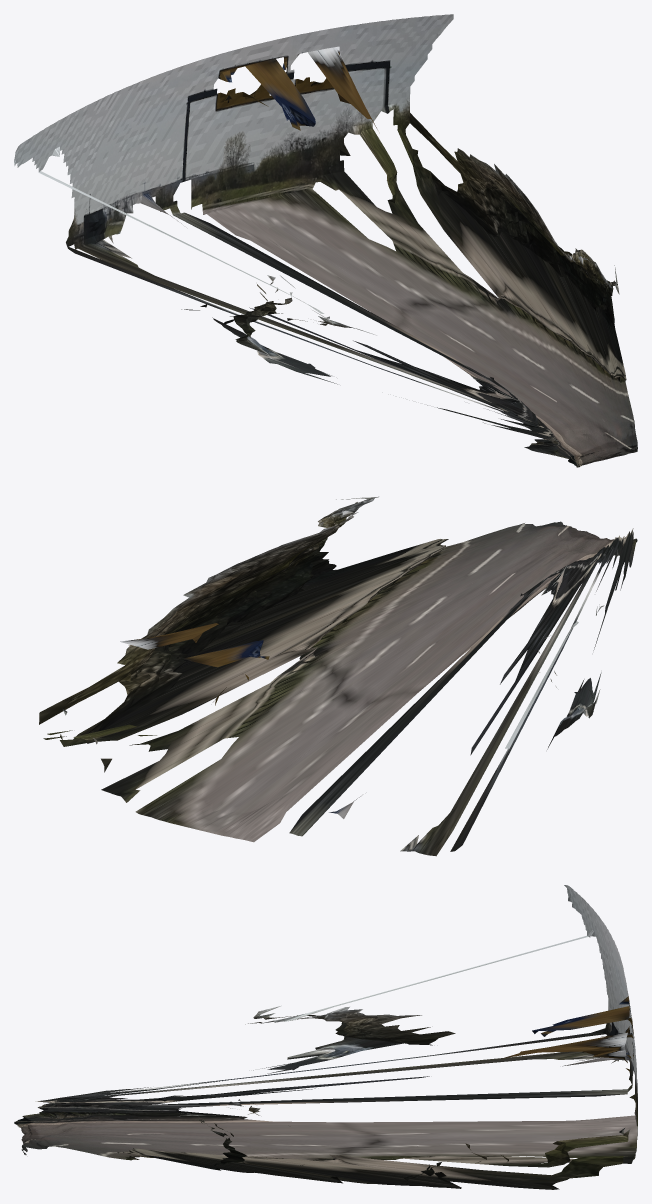
3 renders of one model, top to bottom at view 1: azimuth 30°, elevation 25°; view 2: azimuth 150°, elevation 25°; view 3: azimuth 270°, elevation 25°, orthographic. The views are drawn at different scales.
Parts seen in each view (by area): view 1: defaultobject; view 2: defaultobject; view 3: defaultobject.
Boxes of the visible parts, x1,y1,x2,y2 form: defaultobject: (14, 14, 637, 467); defaultobject: (39, 496, 637, 856); defaultobject: (14, 885, 637, 1189).
Size of the model in its own units: 33.43 by 11.68 by 44.79.
1 material, 1 textured.
